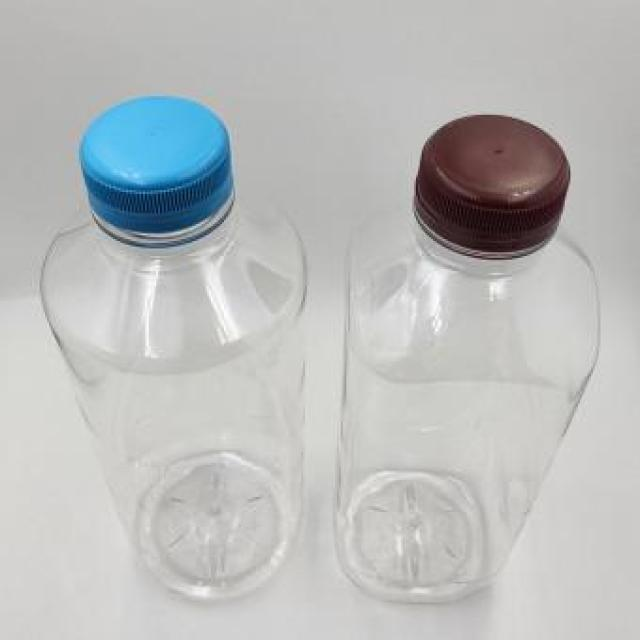bottle: (37, 96, 310, 600), (337, 109, 599, 606)
